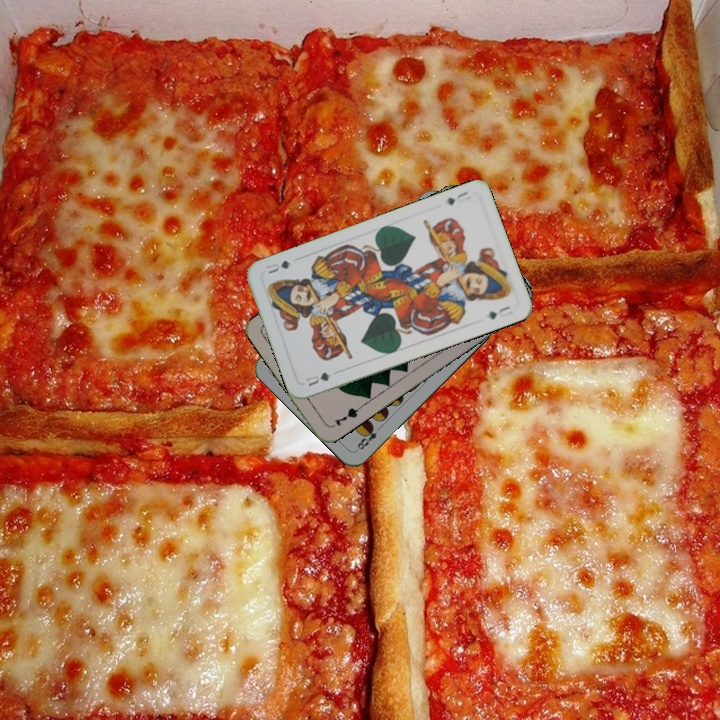E8: (352, 421, 385, 453)
G7: (327, 402, 363, 430)
GU: (302, 367, 340, 389), (443, 187, 471, 208)
